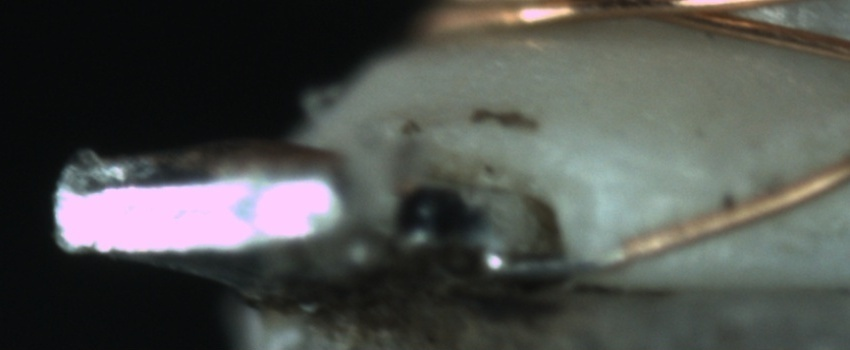DL: (598, 164, 737, 219)
